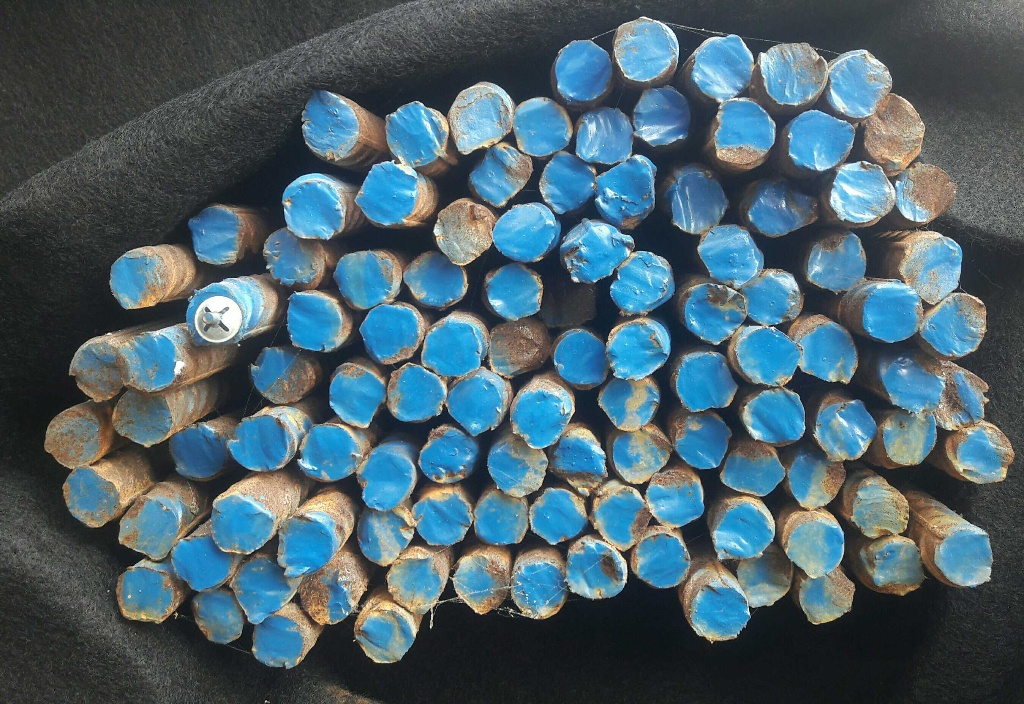dipstick: (714, 96, 777, 168), (828, 49, 892, 118), (883, 343, 947, 410), (829, 161, 897, 224), (759, 42, 825, 106), (797, 319, 861, 385), (280, 178, 348, 240), (743, 177, 818, 233), (673, 350, 737, 415), (302, 557, 363, 625), (298, 90, 354, 164), (871, 94, 926, 169), (947, 420, 1011, 484), (283, 290, 348, 353), (692, 34, 753, 101), (385, 101, 448, 165), (721, 438, 786, 500), (170, 531, 231, 597), (563, 217, 629, 278), (261, 229, 327, 289), (903, 233, 962, 300), (612, 17, 672, 82), (683, 283, 747, 343), (452, 84, 510, 150), (211, 495, 277, 553), (861, 278, 921, 341), (613, 253, 676, 313), (790, 109, 856, 166), (117, 333, 178, 394), (248, 347, 311, 406), (698, 224, 757, 287), (815, 398, 872, 463), (115, 566, 175, 627), (851, 475, 911, 536), (605, 320, 669, 377), (466, 145, 532, 200), (332, 252, 399, 306), (924, 291, 983, 352), (60, 469, 122, 527), (861, 538, 924, 595), (935, 527, 994, 587), (70, 339, 127, 401), (737, 546, 794, 608), (632, 87, 691, 146), (744, 386, 804, 444), (692, 584, 752, 642), (119, 498, 176, 559), (736, 328, 797, 385), (357, 505, 414, 566), (422, 320, 483, 377), (387, 555, 446, 613), (107, 252, 167, 309), (358, 165, 415, 225), (745, 267, 802, 327), (597, 161, 654, 221), (646, 471, 706, 528), (406, 252, 466, 309), (897, 163, 953, 224), (511, 390, 572, 446), (236, 564, 292, 625), (337, 252, 401, 305), (566, 541, 625, 598), (449, 377, 508, 434), (714, 505, 774, 561), (230, 416, 291, 471), (188, 206, 242, 268), (807, 234, 869, 288), (673, 171, 727, 233), (934, 363, 986, 427), (451, 555, 508, 613), (358, 451, 415, 509), (435, 202, 491, 261), (386, 365, 445, 421), (361, 309, 422, 363), (111, 392, 173, 445), (576, 109, 638, 162), (786, 521, 848, 574), (164, 427, 229, 477), (610, 427, 668, 483), (354, 609, 412, 665), (537, 153, 592, 212), (300, 424, 360, 478), (425, 320, 482, 376), (673, 414, 731, 469), (556, 39, 610, 98), (189, 590, 245, 646), (186, 290, 243, 345), (514, 96, 568, 154), (788, 451, 842, 509), (419, 427, 472, 486), (329, 367, 381, 427), (486, 443, 547, 494), (43, 413, 102, 465), (511, 559, 565, 615), (276, 518, 329, 575), (593, 487, 645, 545), (487, 263, 540, 319), (598, 377, 656, 428), (412, 496, 471, 546), (553, 331, 604, 388), (478, 489, 529, 546), (796, 573, 853, 623), (539, 277, 597, 326), (553, 434, 603, 490), (634, 534, 687, 586), (489, 319, 537, 376), (885, 413, 938, 464), (247, 619, 302, 668), (531, 489, 582, 541)
